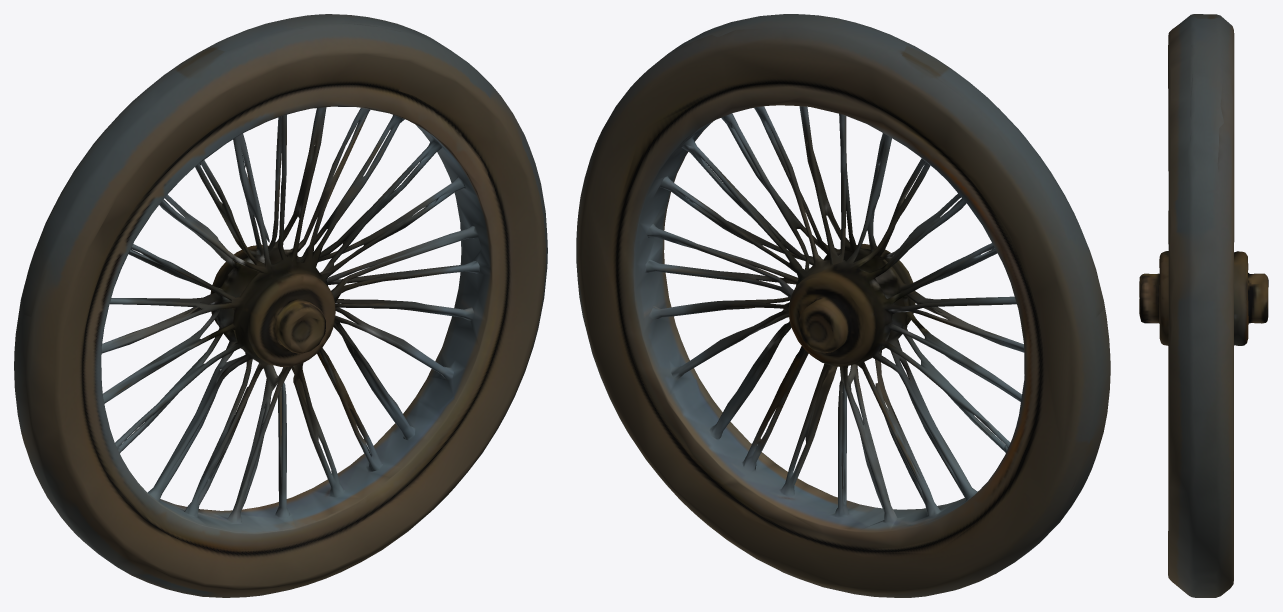
File: bmx_wheel.fbx
3 views of the same model, side by side, from view 1: azimuth 30°, elevation 25°; view 2: azimuth 150°, elevation 25°; view 3: azimuth 270°, elevation 25° (orthographic). The views are drawn at different scales.
Visible parts, largest first — view 1: node_0.003; view 2: node_0.003; view 3: node_0.003.
Part boxes in pixels (x1=…): node_0.003: x1=14, y1=14, x2=547, y2=597; node_0.003: x1=576, y1=14, x2=1110, y2=597; node_0.003: x1=1139, y1=14, x2=1268, y2=597.
Bounding box in the file's own units: 0.3546 × 0.364 × 0.0803.
1 material, 1 textured.
